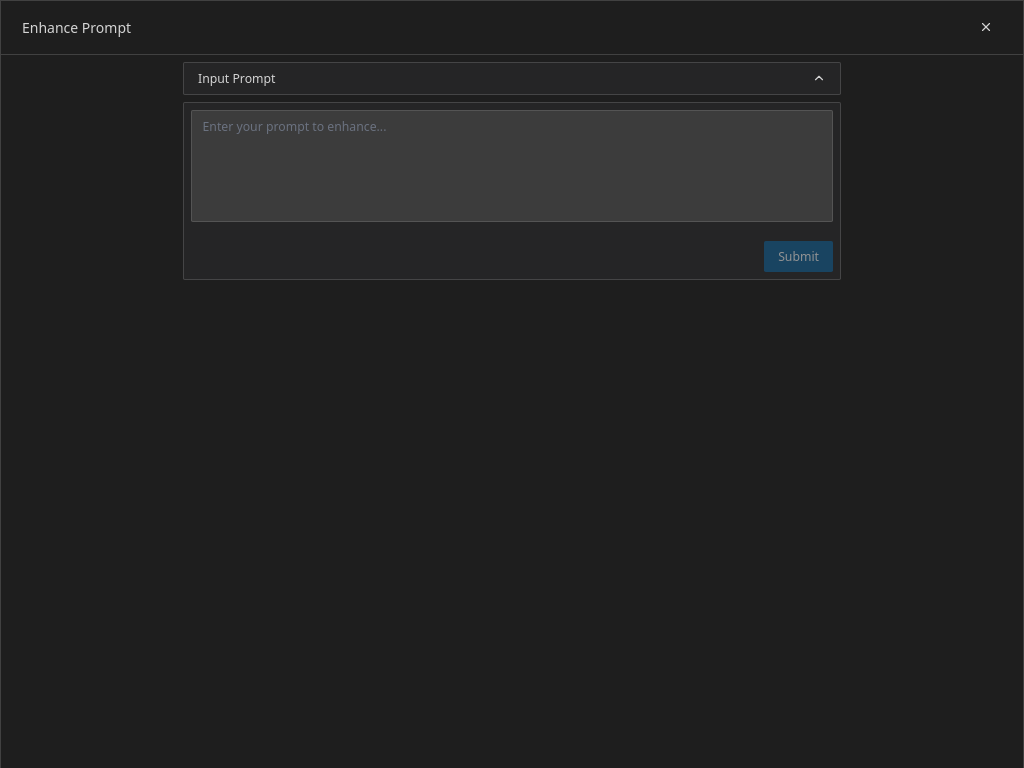
Scenario: EnhancePromptModal › Core Functionality › shows loading state while enhancing prompt
Type "Test prompt" into the text box with placeholder "Enter your prompt to enhance..." at (512, 166), box [191,110,833,222]
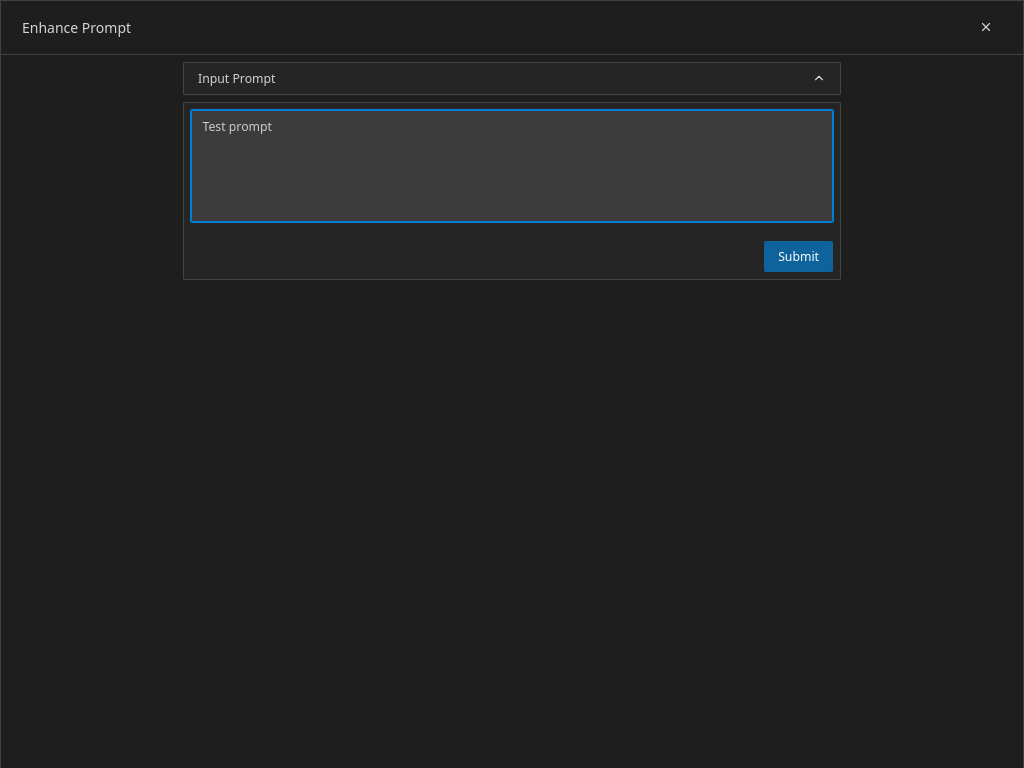
Click the button "Submit" at (799, 256), box [764,240,833,272]
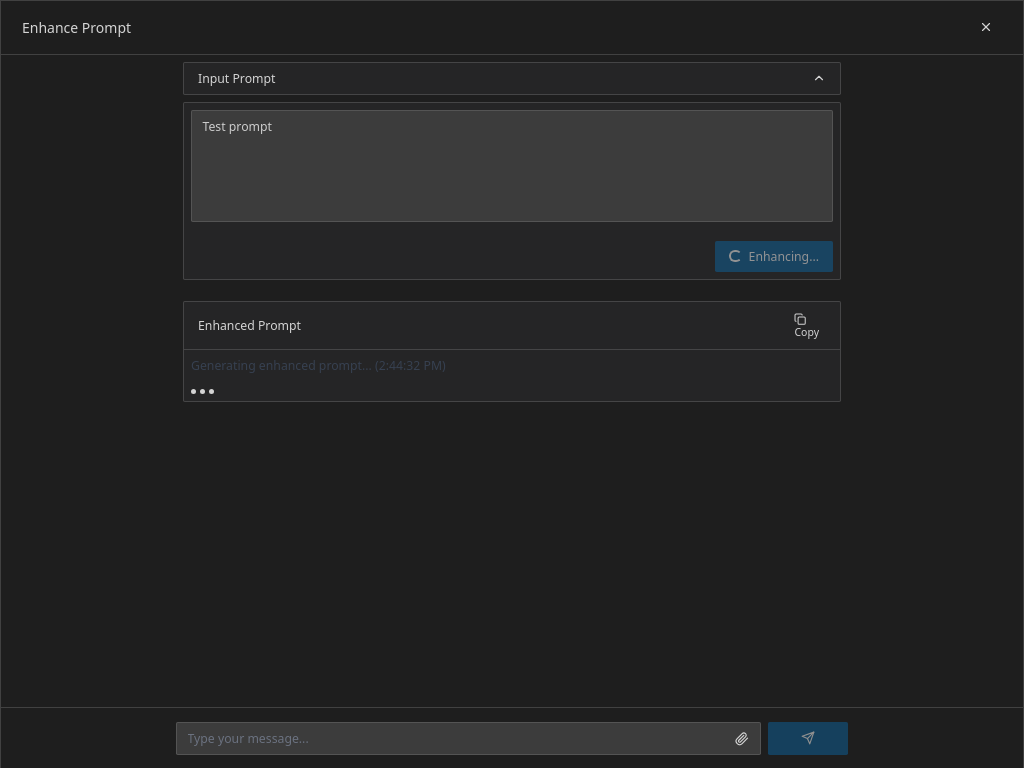
Result: the text "Enhancing..." is shown at [749,248,819,265]
